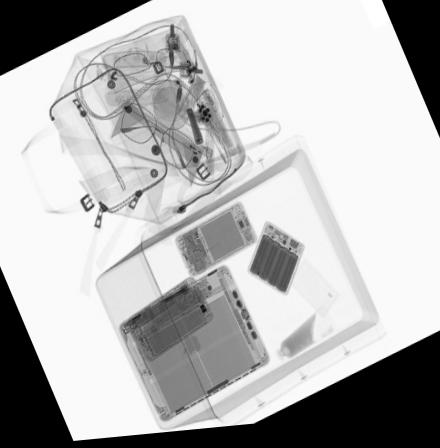Lighter: (177, 132, 213, 165)
